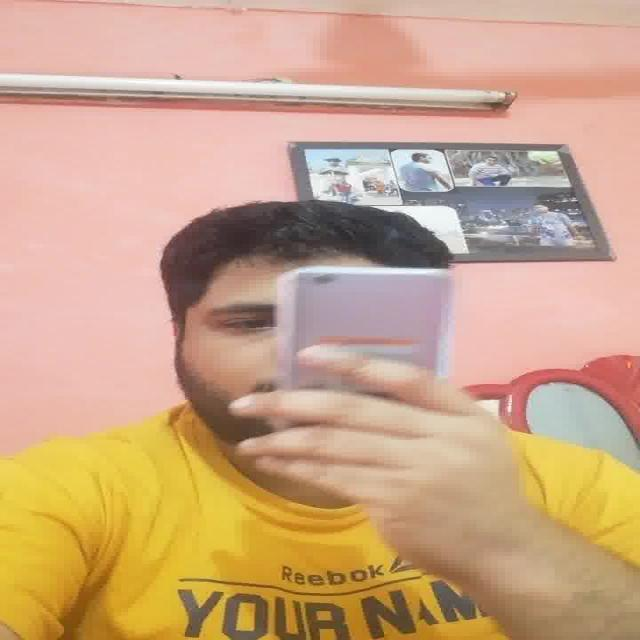Phone: (280, 263, 454, 387)
